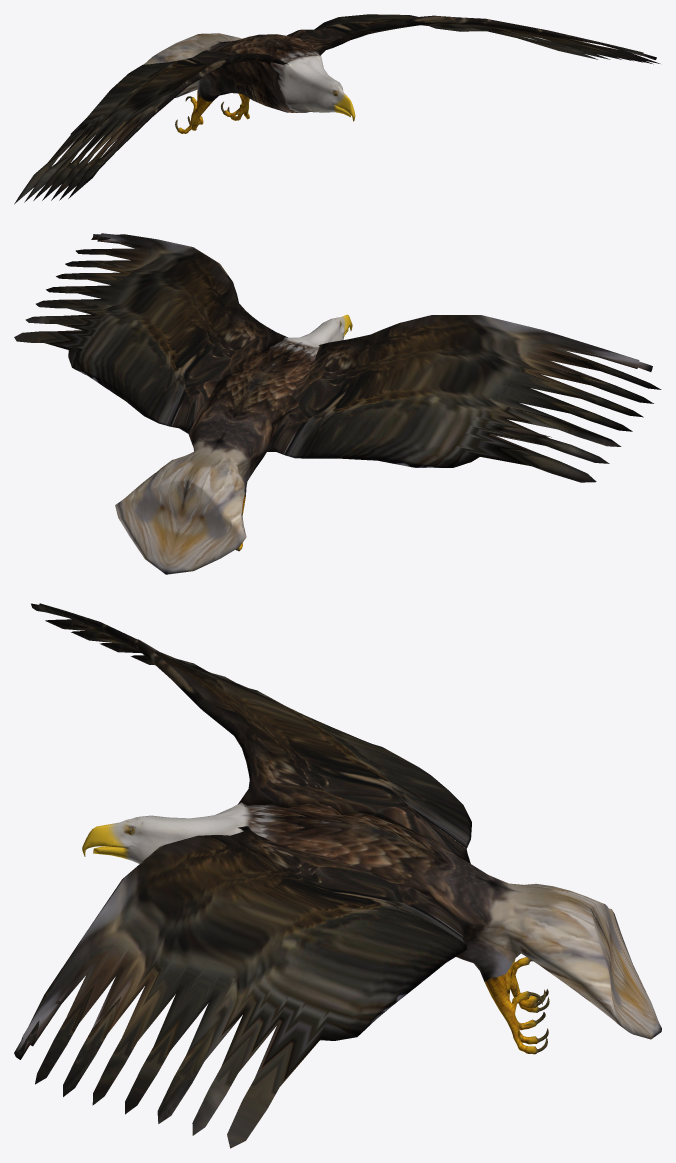
The model's file is Eagle-original_000007.obj.
The picture shows the model from 3 angles, top to bottom: view 1: azimuth 30°, elevation 25°; view 2: azimuth 150°, elevation 25°; view 3: azimuth 270°, elevation 25°; orthographic projection. The views are drawn at different scales.
Visible parts, largest first — view 1: Flugel_Plane.003; view 2: Flugel_Plane.003; view 3: Flugel_Plane.003.
Boxes of the visible parts, x1,y1,x2,y2 form: Flugel_Plane.003: (14,14,660,204); Flugel_Plane.003: (14,233,661,574); Flugel_Plane.003: (14,603,661,1148).
Bounding box in the file's own units: 10.61 × 3 × 6.38.
1 material, 1 textured.
